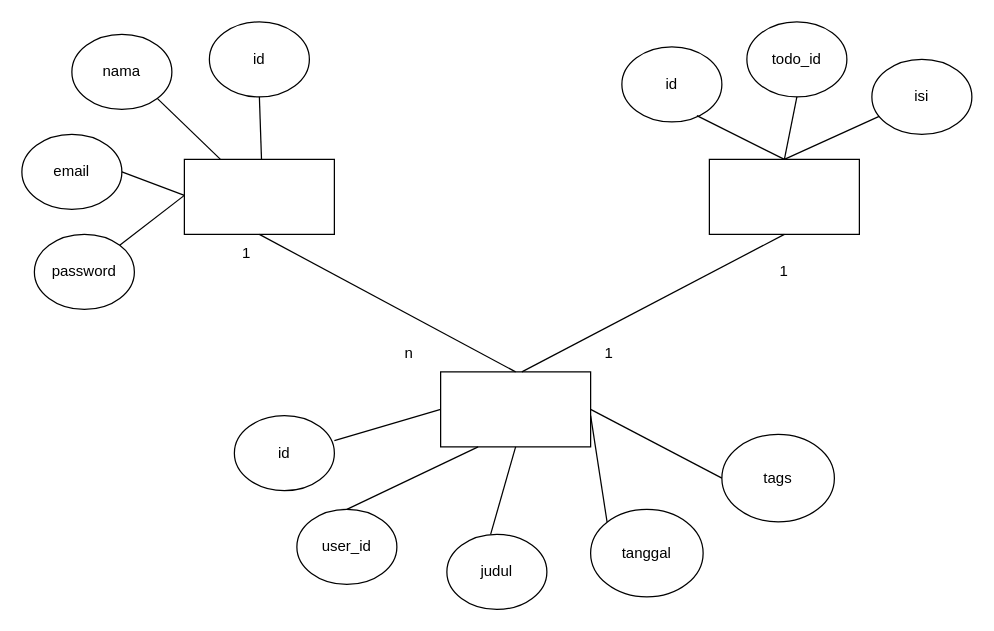
This 994x631 diagram has some shape labels left out. Here are the shapes that lost their labels. From the top down, the box of each, then its label:
(183, 158, 334, 234): User
(708, 158, 859, 234): Comments
(439, 371, 591, 447): Todos
